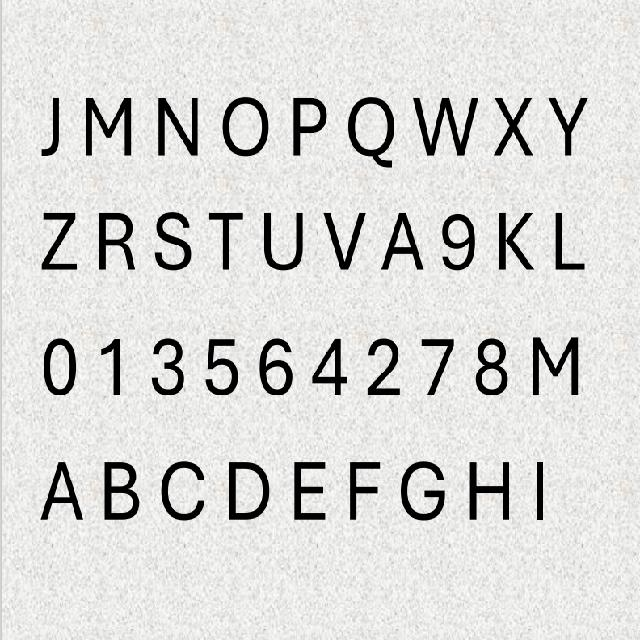0: (41, 332, 75, 402)
1: (98, 334, 122, 399)
2: (367, 331, 402, 401)
3: (148, 335, 183, 400)
4: (311, 330, 347, 398)
5: (202, 332, 239, 402)
6: (257, 328, 295, 399)
7: (420, 336, 454, 400)
8: (475, 334, 508, 398)
9: (437, 206, 480, 274)
A: (38, 452, 84, 527), (383, 203, 427, 274)
B: (100, 454, 139, 526)
C: (158, 454, 208, 525)
D: (224, 453, 269, 526)
E: (290, 456, 329, 526)
F: (344, 457, 380, 524)
G: (402, 455, 448, 524)
H: (467, 458, 512, 528)
I: (523, 452, 556, 526)
J: (33, 93, 67, 159)
K: (489, 207, 536, 270)
L: (544, 210, 590, 274)
M: (84, 92, 136, 161), (530, 332, 580, 400)
N: (154, 91, 201, 161)
O: (221, 95, 272, 159)
P: (287, 93, 326, 162)
Q: (347, 94, 395, 173)
R: (95, 209, 134, 277)
S: (154, 207, 193, 277)
T: (209, 205, 246, 273)
U: (262, 207, 304, 276)
V: (323, 211, 367, 275)
W: (411, 93, 479, 159)
X: (492, 91, 532, 161)
Y: (547, 89, 589, 158)
Z: (39, 205, 80, 273)
